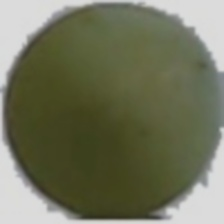grapes: (38, 38, 219, 173)
